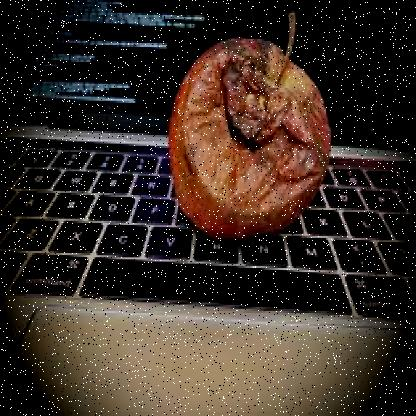damaged_apple: (165, 38, 331, 236)
